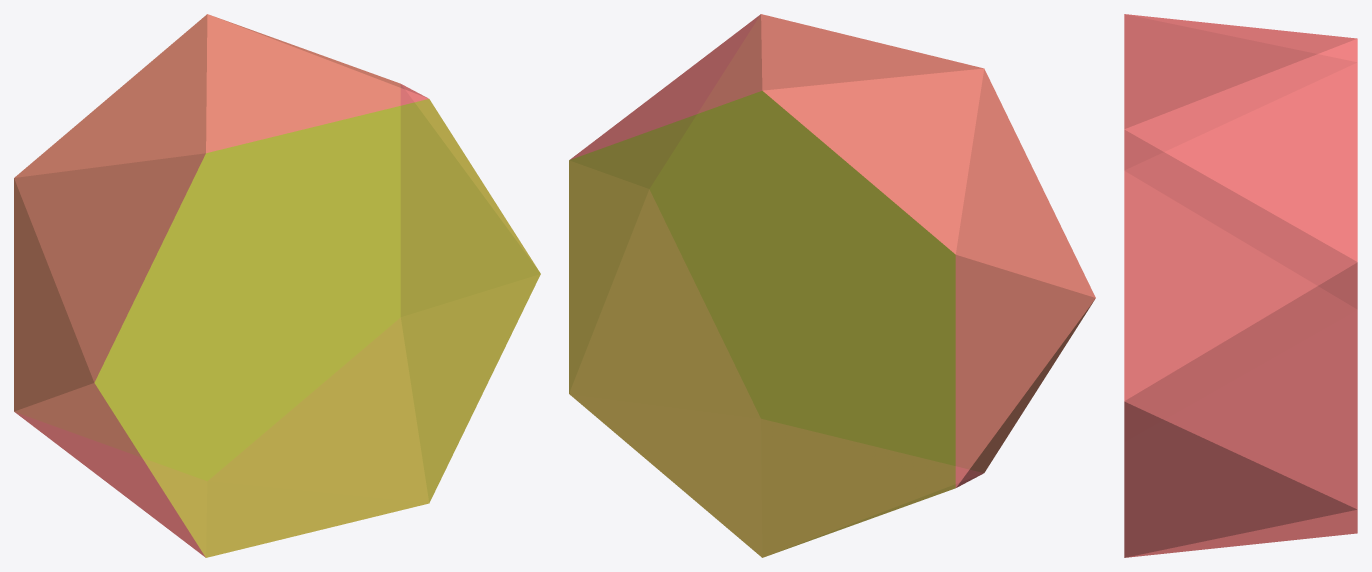
Rendered from HexagonalAntiprism.obj.
3 views of the same model, side by side, from view 1: azimuth 30°, elevation 25°; view 2: azimuth 150°, elevation 25°; view 3: azimuth 270°, elevation 25° (orthographic). The views are drawn at different scales.
Size of the model in its own units: 2 by 2 by 0.8556.
